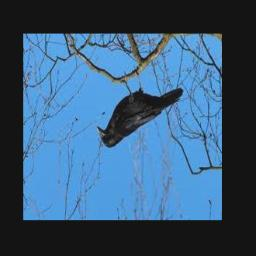Crow: (96, 71, 183, 149)
